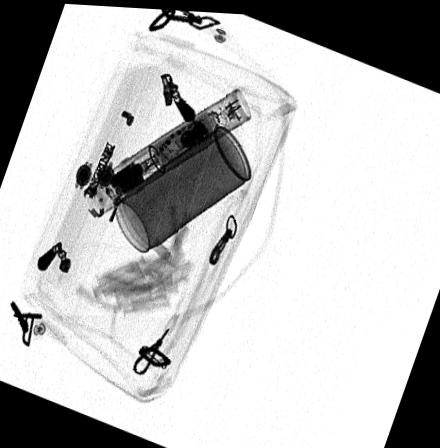Baton: (82, 85, 252, 216)
